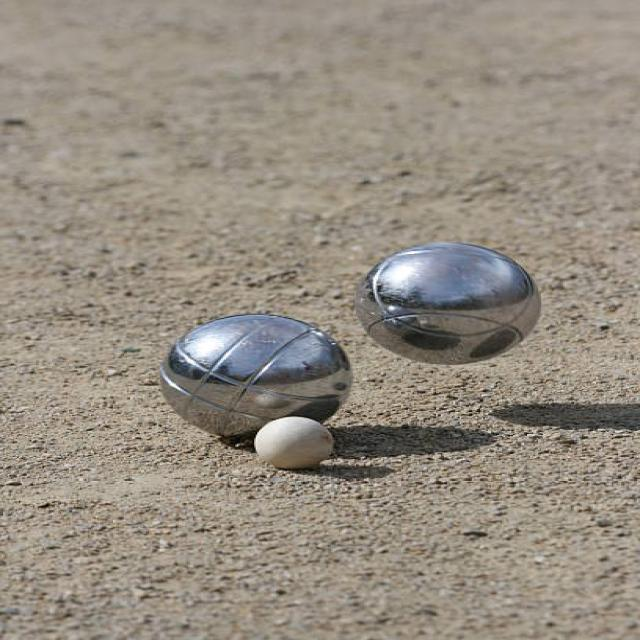hatball: (255, 415, 352, 483)
petanque: (339, 232, 544, 367), (163, 312, 357, 453)
